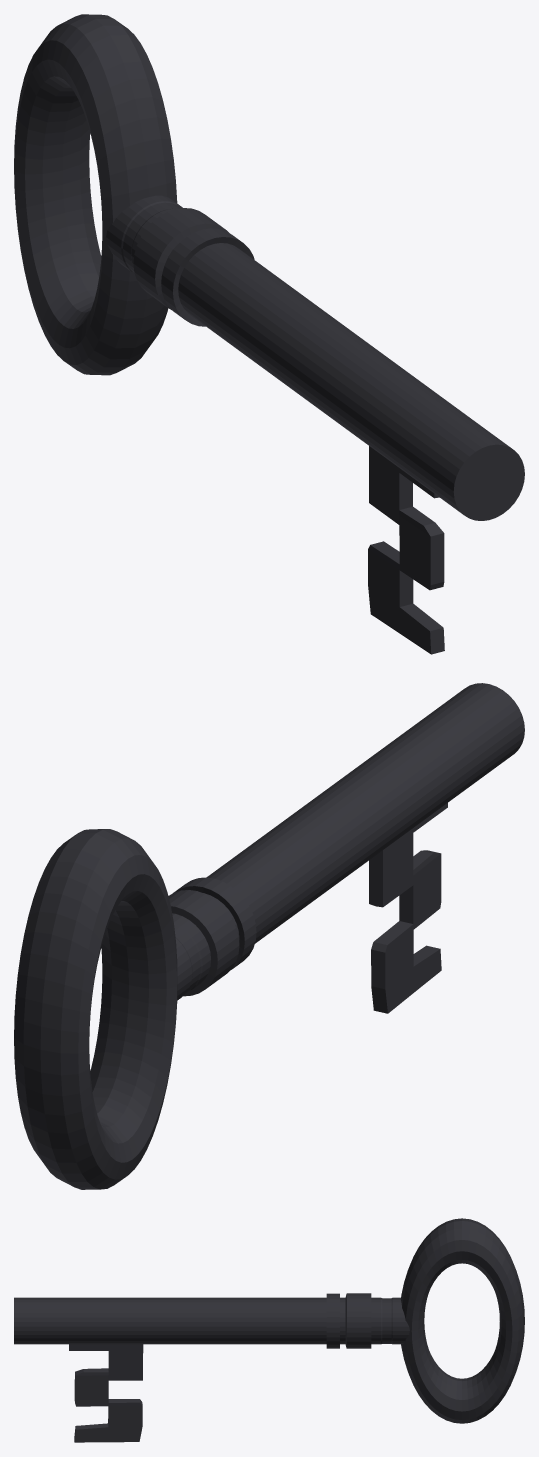
File: key.fbx
3 renders of one model, top to bottom at view 1: azimuth 30°, elevation 25°; view 2: azimuth 150°, elevation 25°; view 3: azimuth 270°, elevation 25°, orthographic. The views are drawn at different scales.
Parts seen in each view (by area): view 1: Cylinder; view 2: Cylinder; view 3: Cylinder.
Boxes of the visible parts, bbox=[...] form: Cylinder: bbox=[14, 14, 524, 654]; Cylinder: bbox=[14, 683, 524, 1189]; Cylinder: bbox=[14, 1218, 524, 1442].
Bounding box in the file's own units: 29.52 × 129 × 272.
